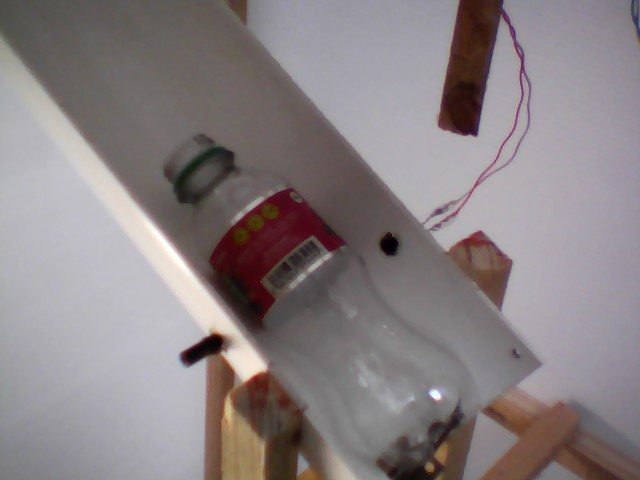plastico: (156, 124, 499, 480)
